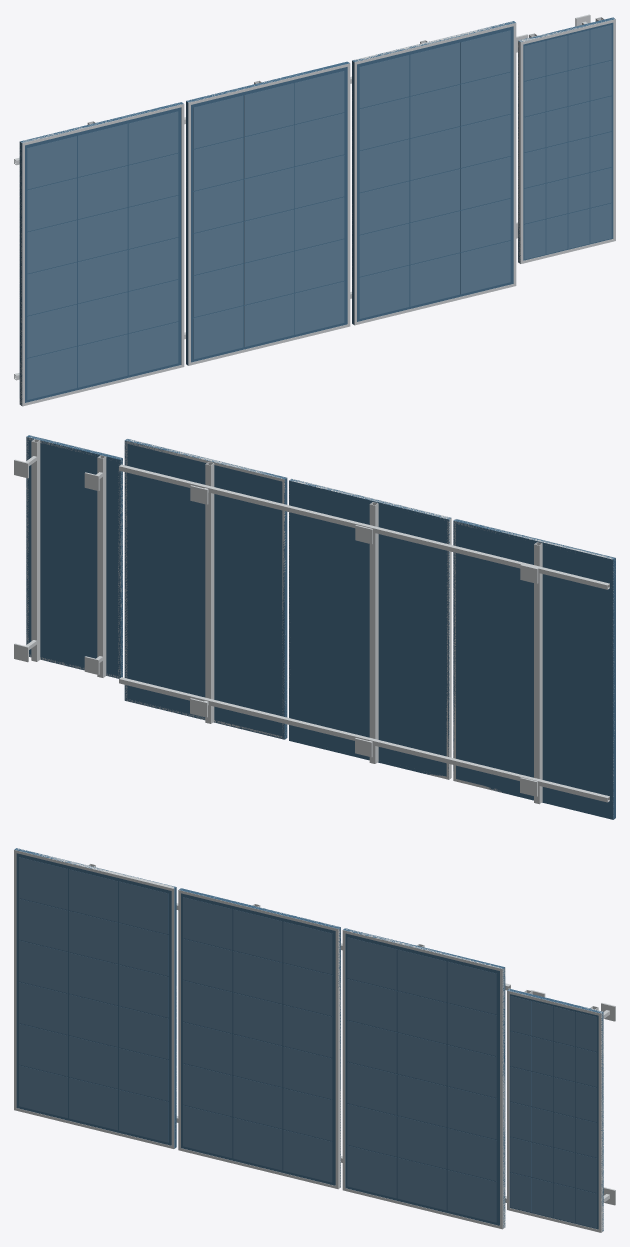
The model's file is cobertura_fixa.glb.
3 renders of one model, top to bottom at view 1: azimuth 30°, elevation 25°; view 2: azimuth 150°, elevation 25°; view 3: azimuth 330°, elevation 25°, orthographic.
Visible parts, largest first — view 1: solar_fixo__32_modulo450W, solar_fixo__78_modulo450W, solar_fixo__55_modulo450W, solar_cabine__101_modulo190W, solar_fixo__75_celulas, solar_fixo__54_celulas, solar_fixo__60_celulas, solar_fixo__62_celulas, solar_fixo__64_celulas, solar_fixo__72_celulas, solar_fixo__73_celulas, solar_fixo__85_celulas (+84 smaller); view 2: solar_fixo__32_modulo450W, solar_fixo__78_modulo450W, solar_fixo__55_modulo450W, solar_cabine__101_modulo190W, suportes__6_longarina_30x30x3_2, suportes__2_longarina_30x30x3_2, suportes__1_longarina_30x30x3_1, suportes__5_longarina_30x30x3_1, suportes__26_travessa_40x40x3_2, solar_fixo__56_moldura, suportes__24_travessa_40x40x3_0, suportes__18_travessa_40x40x3_2 (+11 smaller); view 3: solar_fixo__78_modulo450W, solar_fixo__32_modulo450W, solar_fixo__55_modulo450W, solar_cabine__101_modulo190W, solar_fixo__53_celulas, solar_fixo__67_celulas, solar_fixo__83_celulas, solar_fixo__86_celulas, solar_fixo__87_celulas, solar_fixo__97_celulas, solar_fixo__51_celulas, solar_fixo__54_celulas (+84 smaller).
Part boxes in pixels (left/top/right/bottom): solar_fixo__32_modulo450W: left=19, top=102, right=183, bottom=405; solar_fixo__78_modulo450W: left=352, top=21, right=515, bottom=324; solar_fixo__55_modulo450W: left=186, top=61, right=349, bottom=365; solar_cabine__101_modulo190W: left=518, top=17, right=614, bottom=263; solar_fixo__75_celulas: left=294, top=155, right=344, bottom=208; solar_fixo__54_celulas: left=128, top=111, right=178, bottom=164; solar_fixo__60_celulas: left=193, top=306, right=243, bottom=359; solar_fixo__62_celulas: left=193, top=222, right=243, bottom=275; solar_fixo__64_celulas: left=193, top=137, right=243, bottom=190; solar_fixo__72_celulas: left=294, top=281, right=344, bottom=334; solar_fixo__73_celulas: left=294, top=239, right=344, bottom=292; solar_fixo__85_celulas: left=359, top=181, right=409, bottom=234; solar_fixo__32_modulo450W: left=453, top=519, right=615, bottom=819; solar_fixo__78_modulo450W: left=124, top=439, right=287, bottom=739; solar_fixo__55_modulo450W: left=289, top=479, right=450, bottom=779; solar_cabine__101_modulo190W: left=26, top=435, right=122, bottom=678; suportes__6_longarina_30x30x3_2: left=119, top=466, right=607, bottom=589; suportes__2_longarina_30x30x3_2: left=119, top=679, right=607, bottom=801; suportes__1_longarina_30x30x3_1: left=119, top=677, right=609, bottom=798; suportes__5_longarina_30x30x3_1: left=119, top=464, right=609, bottom=585; suportes__26_travessa_40x40x3_2: left=205, top=464, right=210, bottom=723; solar_fixo__56_moldura: left=446, top=517, right=451, bottom=779; suportes__24_travessa_40x40x3_0: left=210, top=463, right=214, bottom=723; suportes__18_travessa_40x40x3_2: left=370, top=504, right=374, bottom=763; solar_fixo__78_modulo450W: left=343, top=928, right=505, bottom=1227; solar_fixo__32_modulo450W: left=14, top=848, right=176, bottom=1148; solar_fixo__55_modulo450W: left=179, top=888, right=340, bottom=1187; solar_cabine__101_modulo190W: left=507, top=988, right=603, bottom=1231; solar_fixo__53_celulas: left=119, top=923, right=168, bottom=975; solar_fixo__67_celulas: left=233, top=1076, right=282, bottom=1128; solar_fixo__83_celulas: left=347, top=1145, right=396, bottom=1198; solar_fixo__86_celulas: left=347, top=1020, right=396, bottom=1073; solar_fixo__87_celulas: left=347, top=979, right=396, bottom=1031; solar_fixo__97_celulas: left=447, top=1086, right=496, bottom=1139; solar_fixo__51_celulas: left=119, top=1006, right=168, bottom=1059; solar_fixo__54_celulas: left=119, top=881, right=168, bottom=934.
Size of the model in its own units: 4.16 by 1.76 by 0.2523.
